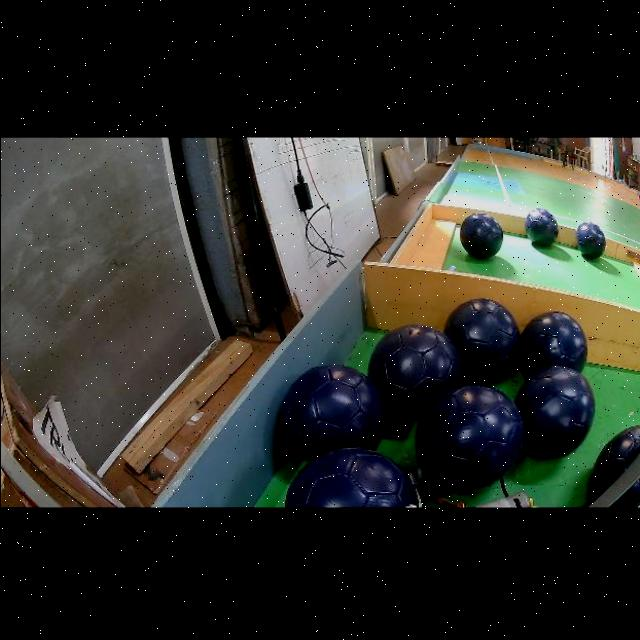B: (415, 383, 523, 489), (280, 363, 385, 458), (367, 323, 461, 416), (284, 447, 416, 506), (514, 363, 594, 457), (443, 296, 519, 381), (518, 309, 586, 374), (586, 424, 640, 498), (459, 211, 502, 258), (524, 206, 558, 245), (574, 220, 605, 258), (610, 475, 640, 506)
